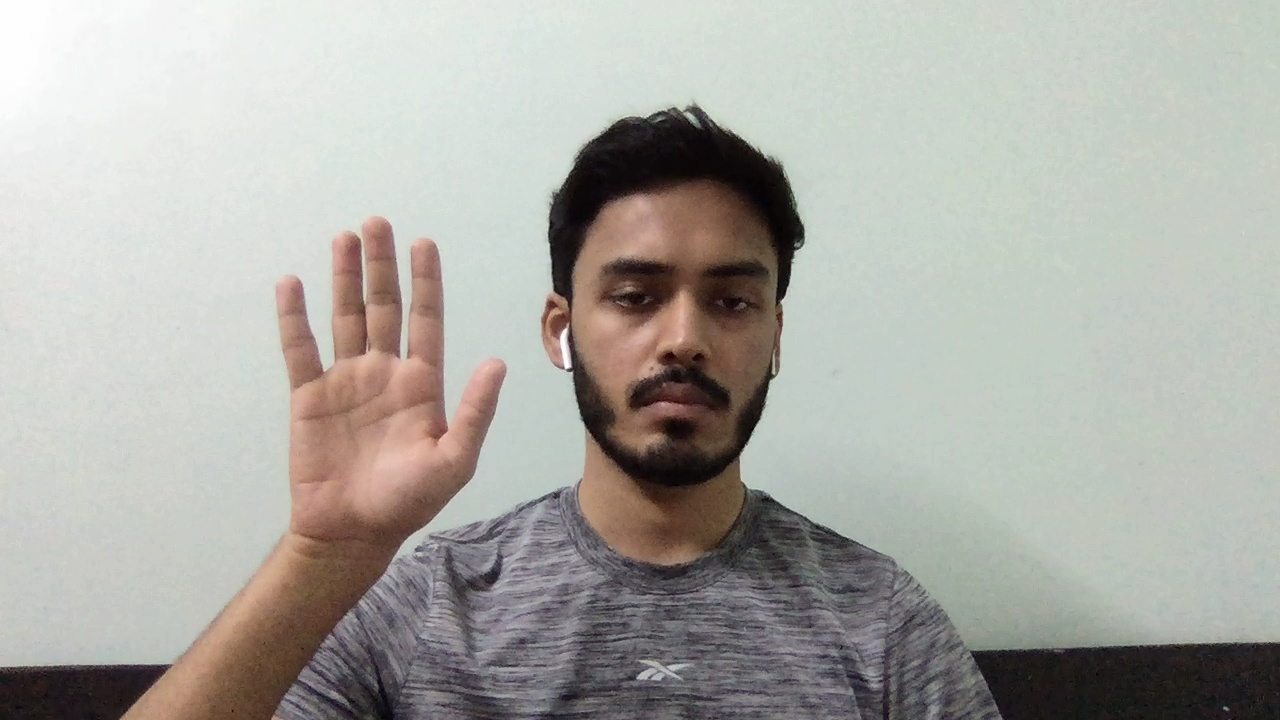Hello: (265, 207, 514, 572)
